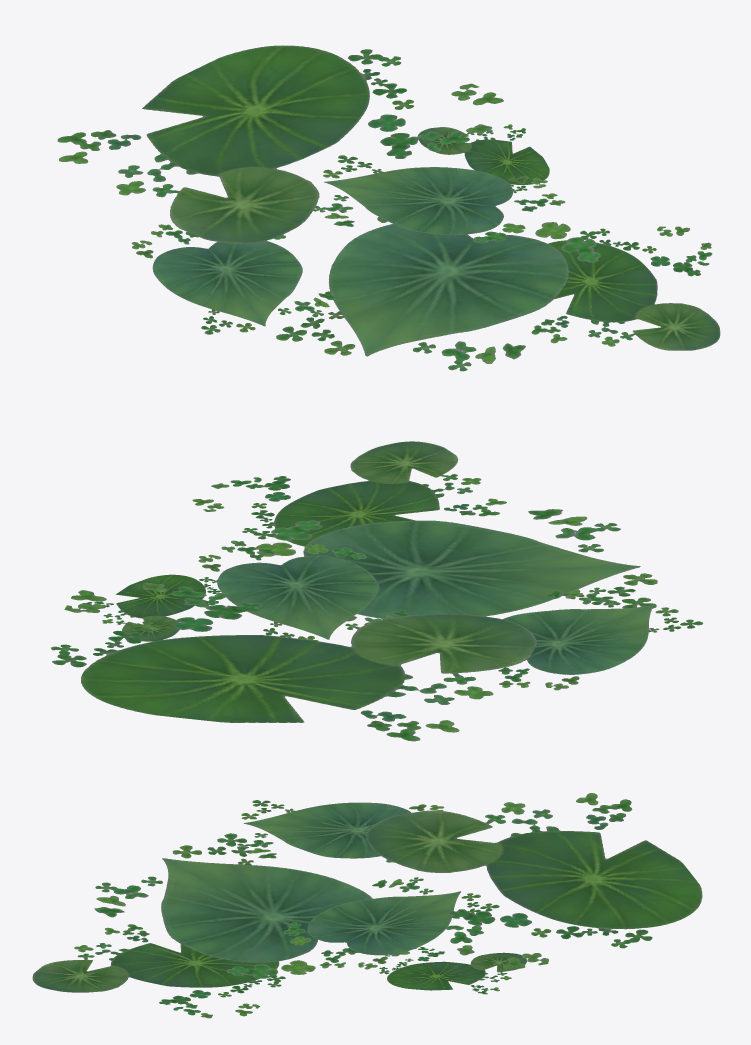
The model's file is Yland1_Zb_15_Yland1.FBX.
The picture shows the model from 3 angles, top to bottom: view 1: azimuth 30°, elevation 25°; view 2: azimuth 150°, elevation 25°; view 3: azimuth 270°, elevation 25°; orthographic projection. The views are drawn at different scales.
Parts seen in each view (by area): view 1: Yland1_Zb_15_Yland1; view 2: Yland1_Zb_15_Yland1; view 3: Yland1_Zb_15_Yland1.
Boxes of the visible parts, x1,y1,x2,y2 form: Yland1_Zb_15_Yland1: (57, 45, 720, 371); Yland1_Zb_15_Yland1: (51, 441, 702, 741); Yland1_Zb_15_Yland1: (32, 793, 702, 1018).
Size of the model in its own units: 4.78 by 0.4404 by 6.27.
